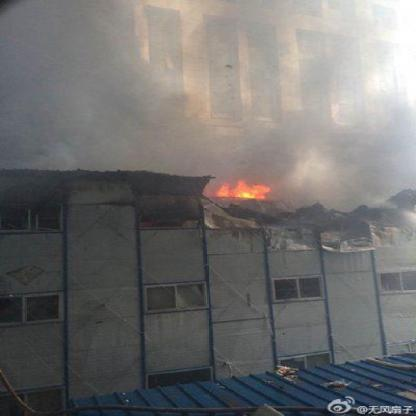fire: (194, 167, 285, 208)
smoke: (0, 6, 198, 176), (214, 15, 412, 184)
